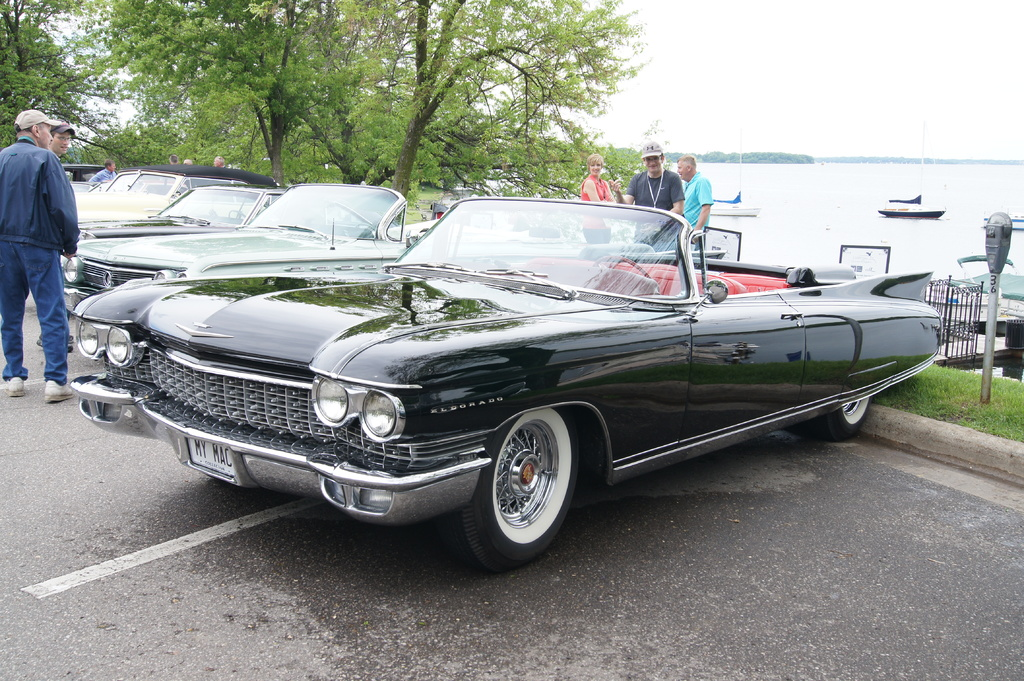Car: (71, 193, 943, 570), (62, 181, 438, 307), (73, 163, 266, 214)
